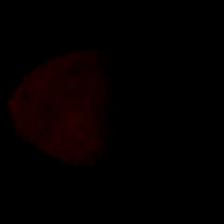fertile: (10, 44, 186, 172)
